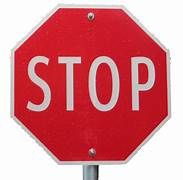stop: (9, 3, 173, 165)
